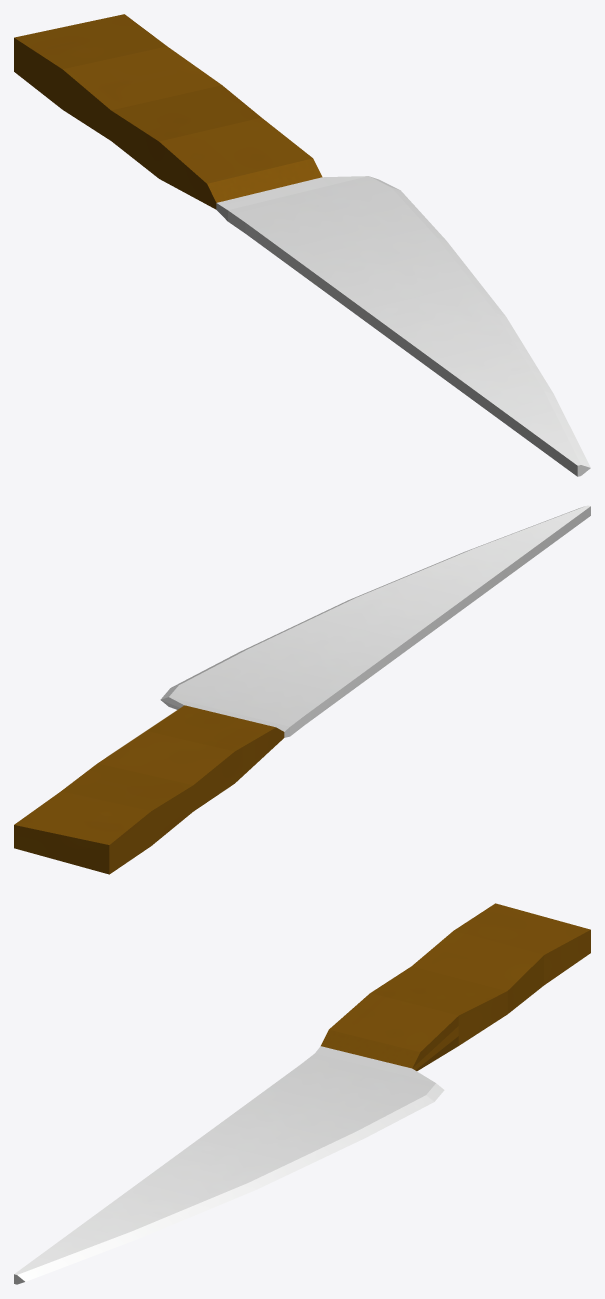
File: Knife.fbx
3 views of the same model, one above another, from view 1: azimuth 30°, elevation 25°; view 2: azimuth 150°, elevation 25°; view 3: azimuth 330°, elevation 25° (orthographic). The views are drawn at different scales.
Parts seen in each view (by area): view 1: Knife; view 2: Knife; view 3: Knife.
Part boxes in pixels (x1,y1,x2,y2): Knife: [14, 14, 590, 476]; Knife: [14, 505, 590, 874]; Knife: [14, 903, 590, 1284].
Size of the model in its own units: 3.28 by 0.8033 by 20.17.
